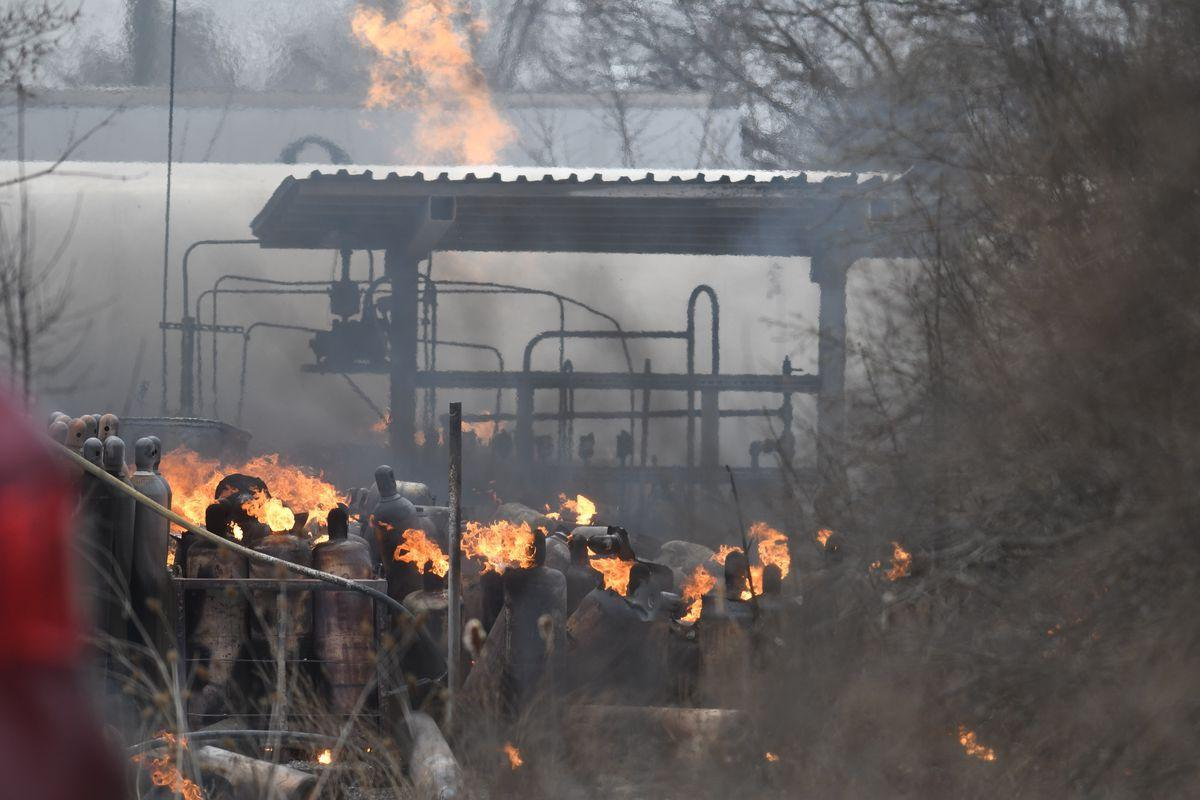fire: (346, 4, 528, 156), (133, 420, 356, 535), (682, 518, 790, 612), (461, 503, 544, 580), (136, 716, 206, 795), (390, 509, 451, 589), (581, 548, 642, 600), (556, 475, 607, 523)
